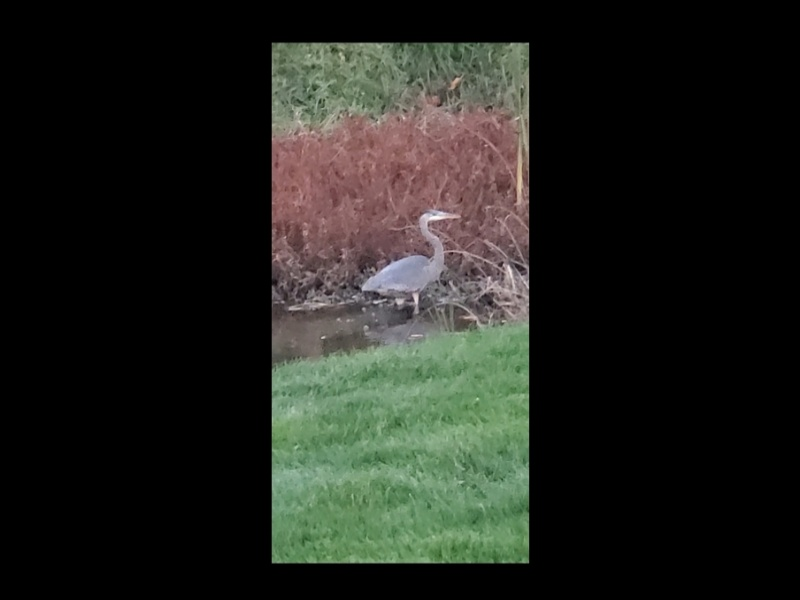heron: (361, 208, 463, 318)
